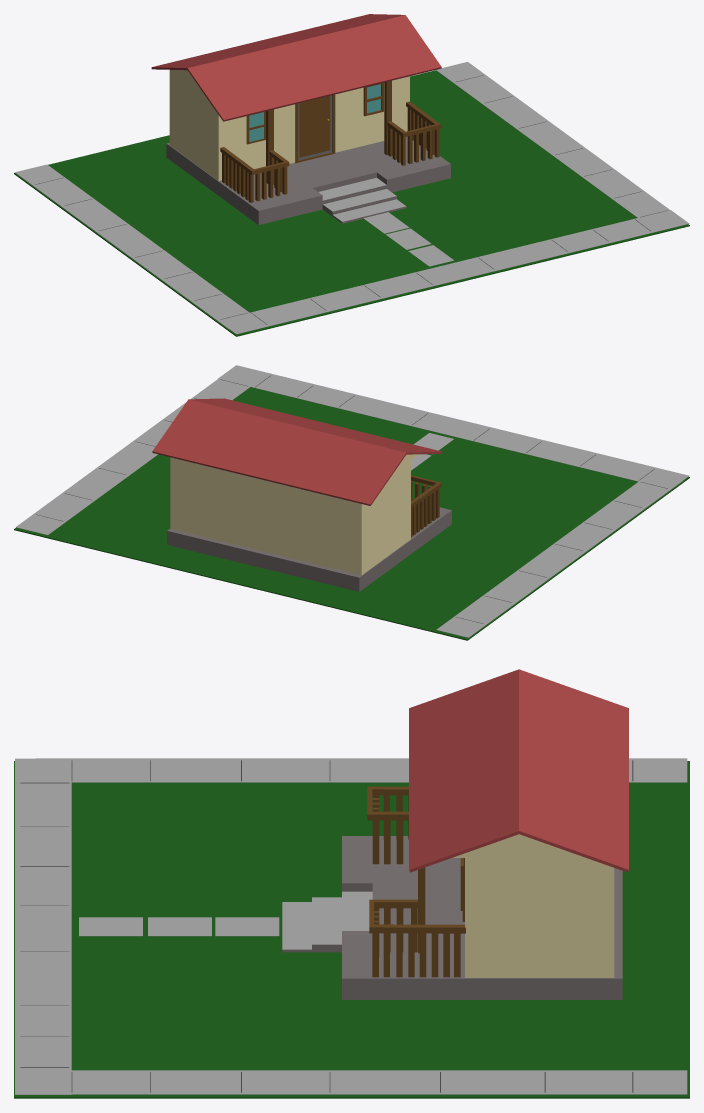
File: houseFinal.fbx
The picture shows the model from 3 angles, top to bottom: view 1: azimuth 30°, elevation 25°; view 2: azimuth 150°, elevation 25°; view 3: azimuth 270°, elevation 25°; orthographic projection. The views are drawn at different scales.
Visible parts, largest first — view 1: pCube45, polySurface25, polySurface24, polySurface22, pCube50, pCube52, pCube51, polySurface47, polySurface49, polySurface23, polySurface50, polySurface11 (+3 smaller); view 2: pCube45, polySurface22, polySurface25, pCube50, pCube51, pCube52, polySurface24; view 3: pCube45, polySurface25, polySurface24, polySurface22, pCube50, pCube52, pCube51, polySurface49, pCube46, pCube47, pCube48, polySurface23.
Boxes of the visible parts, x1=… form: pCube45: x1=14, y1=70, x2=689, y2=336; polySurface25: x1=151, y1=14, x2=441, y2=121; polySurface24: x1=166, y1=136, x2=450, y2=224; polySurface22: x1=169, y1=70, x2=409, y2=180; pCube50: x1=218, y1=210, x2=689, y2=334; pCube52: x1=436, y1=62, x2=669, y2=226; pCube51: x1=15, y1=164, x2=249, y2=328; polySurface47: x1=295, y1=94, x2=335, y2=162; polySurface49: x1=384, y1=80, x2=440, y2=155; polySurface23: x1=220, y1=109, x2=289, y2=183; polySurface50: x1=363, y1=82, x2=383, y2=116; polySurface11: x1=246, y1=111, x2=265, y2=144; pCube45: x1=14, y1=387, x2=689, y2=640; polySurface22: x1=170, y1=454, x2=418, y2=575; polySurface25: x1=152, y1=398, x2=442, y2=505; pCube50: x1=218, y1=365, x2=689, y2=489; pCube51: x1=436, y1=474, x2=682, y2=637; pCube52: x1=16, y1=370, x2=260, y2=535; polySurface24: x1=167, y1=507, x2=451, y2=591; pCube45: x1=14, y1=761, x2=689, y2=1098; polySurface25: x1=409, y1=669, x2=628, y2=872; polySurface24: x1=282, y1=836, x2=622, y2=999; polySurface22: x1=452, y1=834, x2=614, y2=977; pCube50: x1=15, y1=758, x2=71, y2=1094; pCube52: x1=36, y1=1070, x2=687, y2=1094; pCube51: x1=35, y1=758, x2=687, y2=782; polySurface49: x1=369, y1=867, x2=465, y2=953; pCube46: x1=215, y1=917, x2=279, y2=936; pCube47: x1=148, y1=917, x2=211, y2=936; pCube48: x1=79, y1=917, x2=142, y2=936; polySurface23: x1=367, y1=786, x2=408, y2=820.
Size of the model in its own units: 48.36 by 12.64 by 41.06.
